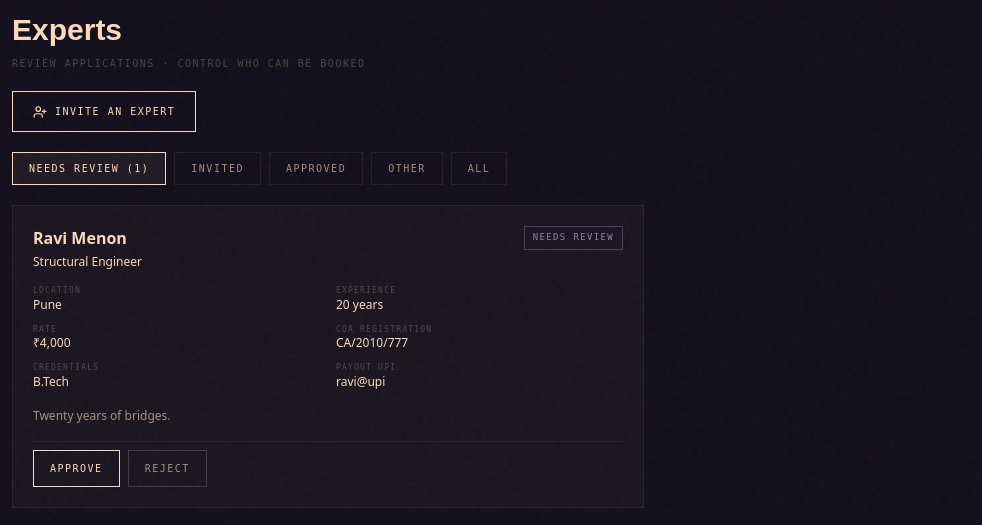
Test: Admin / Experts › approves after confirmation and moves the expert out of the review list
Click the button "APPROVE" at (76, 469), box [33, 450, 120, 488]
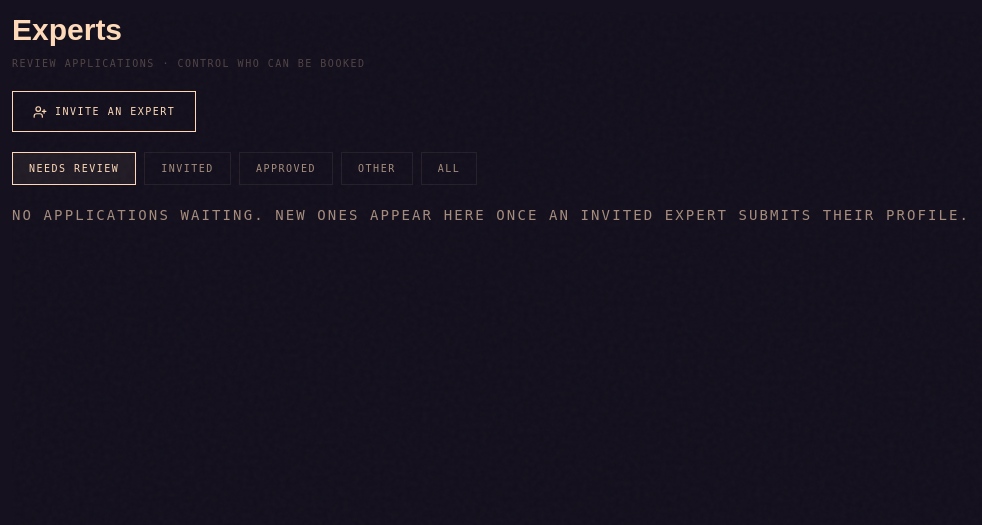
Expected: the heading "Ravi Menon" is gone
